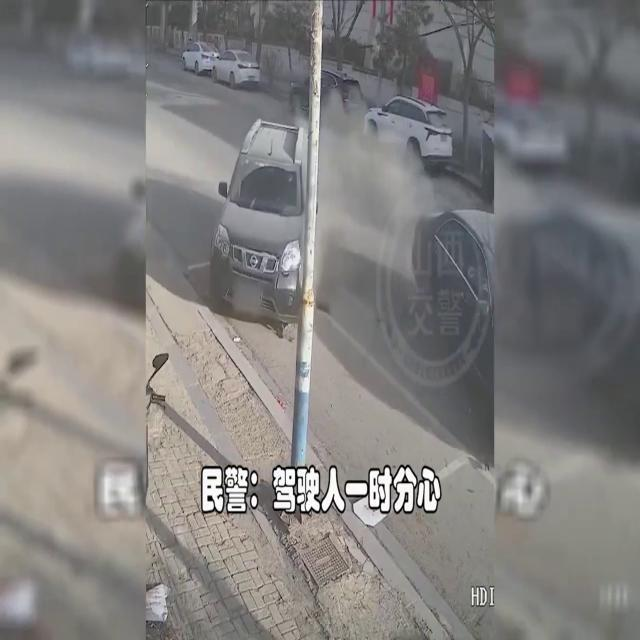normal: (355, 58, 472, 188)
single accident: (235, 82, 330, 360)
